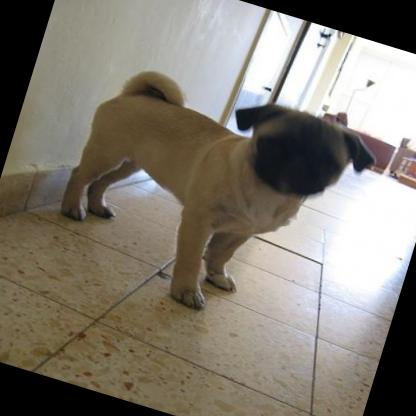pug: (38, 46, 385, 346)
